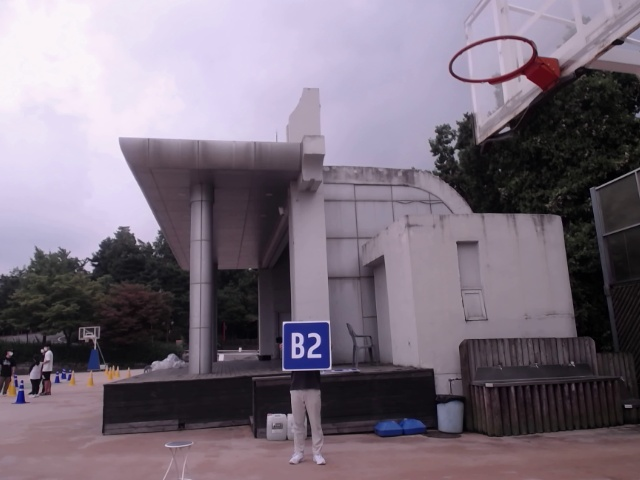delivery_b2: (281, 320, 332, 371)
